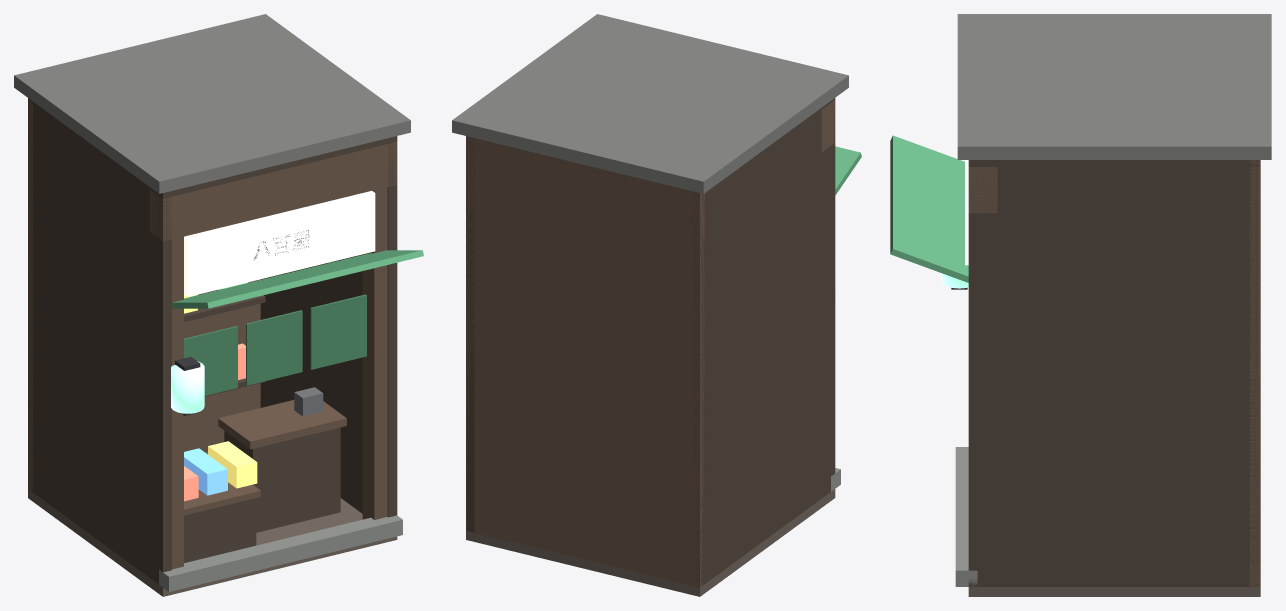
Rendered from shop_midori.glb.
3 renders of one model, left to right at view 1: azimuth 30°, elevation 25°; view 2: azimuth 150°, elevation 25°; view 3: azimuth 270°, elevation 25°, orthographic. The views are drawn at different scales.
Visible parts, largest first — view 1: shop_midori; view 2: shop_midori; view 3: shop_midori.
Boxes of the visible parts, left/top/right/bottom form: shop_midori: left=14, top=14, right=423, bottom=596; shop_midori: left=452, top=14, right=861, bottom=596; shop_midori: left=890, top=14, right=1271, bottom=596.
Bounding box in the file's own units: 8.6 × 13.75 × 10.44.
